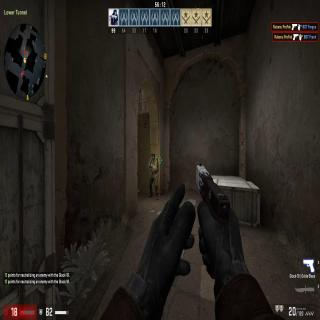CT-Body: (148, 152, 160, 190)
CT-Head: (150, 152, 156, 161)
